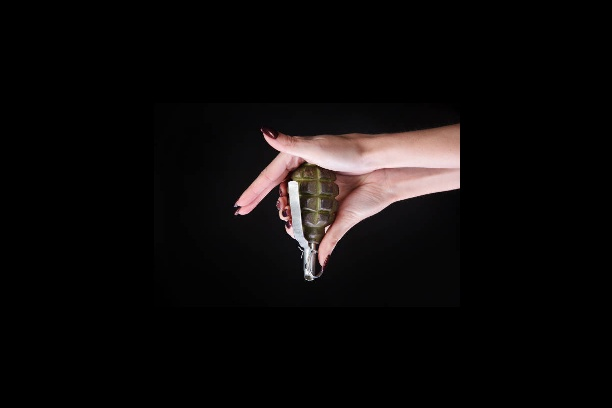e1: (283, 160, 343, 285)
